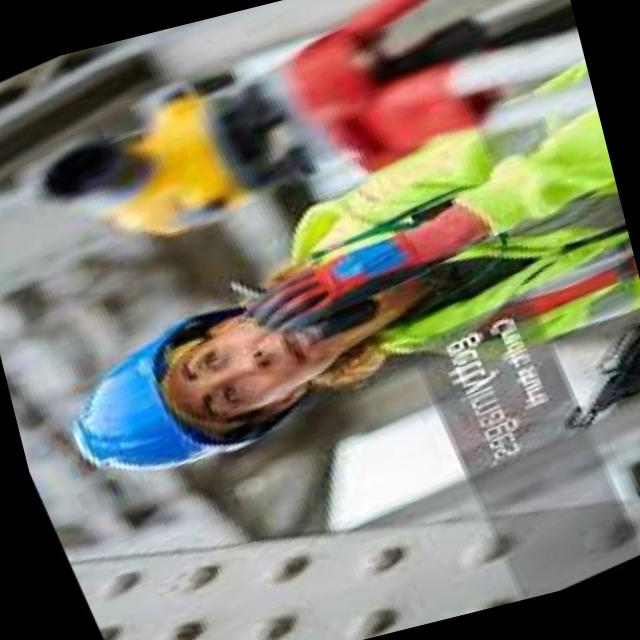gloved: (222, 191, 504, 352)
